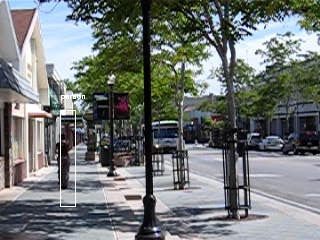person: (55, 133, 74, 190), (54, 133, 73, 190), (56, 133, 75, 190), (55, 132, 74, 189), (55, 134, 74, 191)
target_negative: (67, 85, 197, 208), (135, 160, 290, 240), (37, 54, 88, 110), (4, 192, 218, 205), (176, 224, 275, 236), (216, 178, 267, 190)
